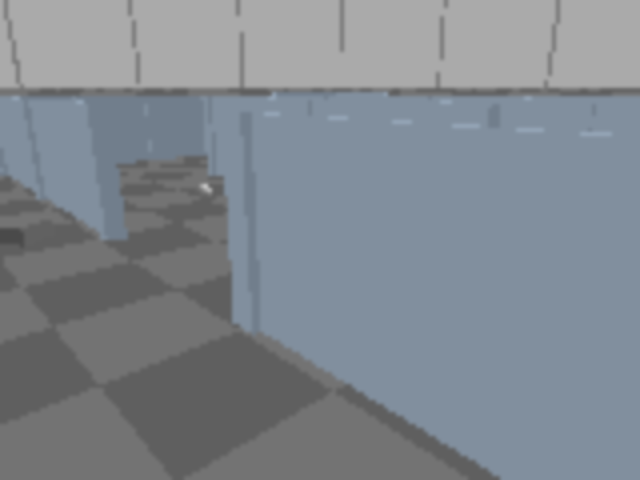obstacle: (0, 215, 56, 246)
